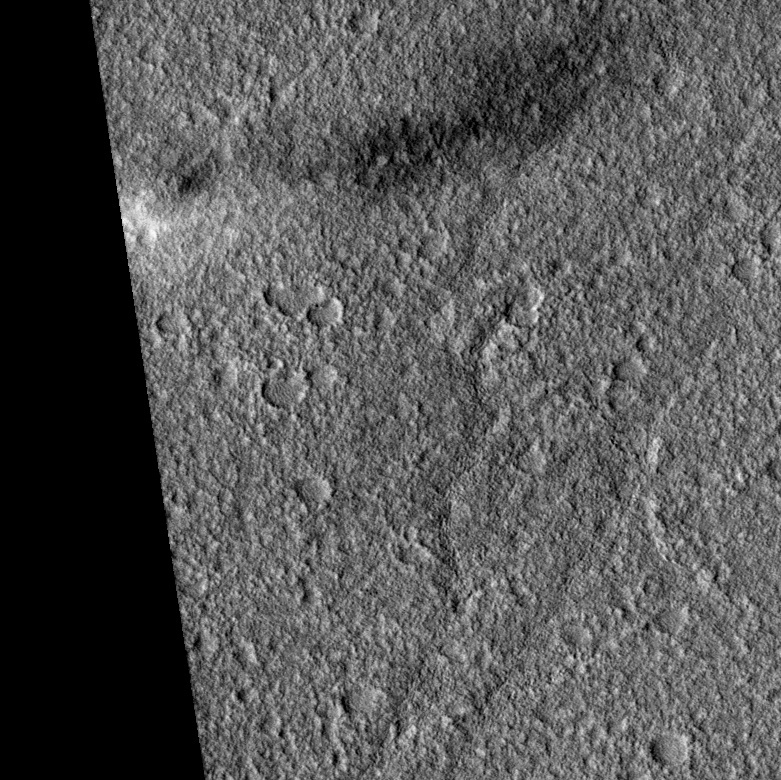dust_devil: (117, 26, 596, 237)
